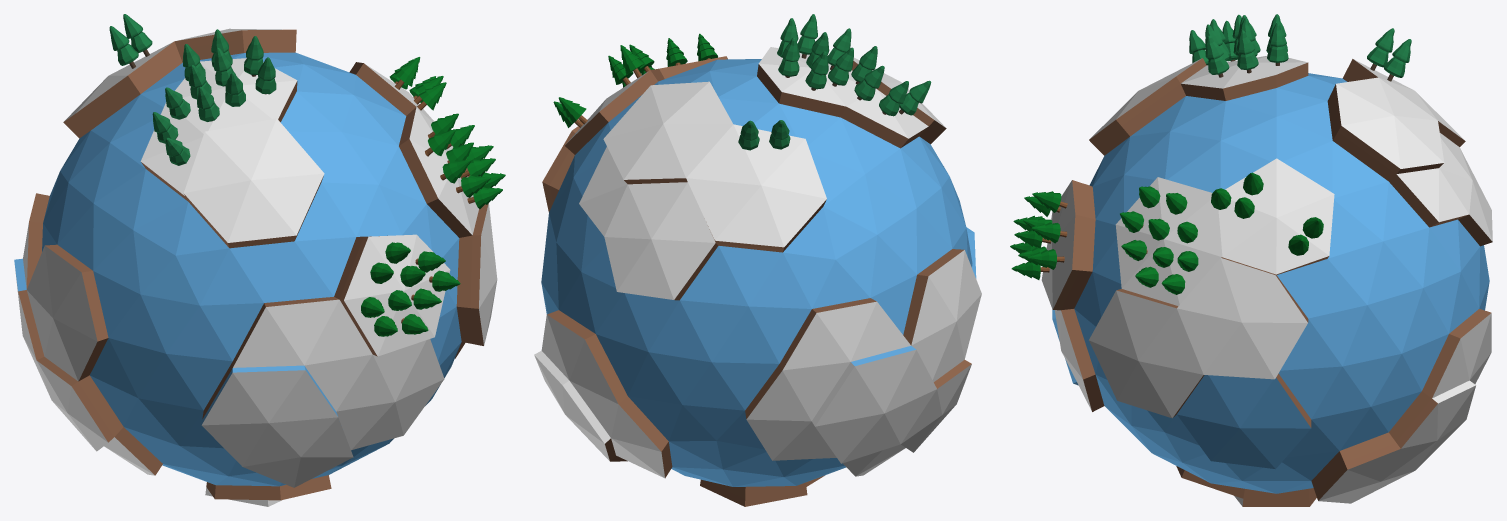
File: PlanetTest.gltf
The picture shows the model from 3 angles, left to right: view 1: azimuth 30°, elevation 25°; view 2: azimuth 150°, elevation 25°; view 3: azimuth 270°, elevation 25°; orthographic projection. The views are drawn at different scales.
Visible parts, largest first — view 1: Icosphere, Tree.014, Tree.004, Tree.003, Tree.010, Tree.002, Tree.012, Tree.009; view 2: Icosphere, Tree.008, Tree.012, Tree.011, Tree.001, Tree.005, Tree.013, Tree.003, Tree.010; view 3: Icosphere, Tree.004, Tree.014, Tree.001, Tree.002, Tree.003.
Boxes of the visible parts, x1=… form: Icosphere: x1=14, y1=28, x2=497, y2=506; Tree.014: x1=109, y1=26, x2=138, y2=68; Tree.004: x1=123, y1=14, x2=152, y2=56; Tree.003: x1=255, y1=57, x2=276, y2=94; Tree.010: x1=197, y1=86, x2=219, y2=121; Tree.002: x1=244, y1=36, x2=263, y2=76; Tree.012: x1=165, y1=87, x2=190, y2=119; Tree.009: x1=225, y1=72, x2=245, y2=106; Icosphere: x1=534, y1=47, x2=981, y2=506; Tree.008: x1=828, y1=47, x2=853, y2=86; Tree.012: x1=854, y1=65, x2=884, y2=100; Tree.011: x1=879, y1=81, x2=908, y2=116; Tree.001: x1=778, y1=37, x2=799, y2=77; Tree.005: x1=805, y1=51, x2=828, y2=90; Tree.013: x1=899, y1=80, x2=931, y2=115; Tree.003: x1=797, y1=14, x2=817, y2=58; Tree.010: x1=851, y1=46, x2=877, y2=84; Icosphere: x1=1041, y1=56, x2=1492, y2=506; Tree.004: x1=1384, y1=39, x2=1411, y2=81; Tree.014: x1=1367, y1=28, x2=1394, y2=70; Tree.001: x1=1267, y1=22, x2=1288, y2=65; Tree.002: x1=1236, y1=30, x2=1258, y2=73; Tree.003: x1=1205, y1=35, x2=1229, y2=77.
Size of the model in its own units: 2.17 by 2.36 by 2.27.
